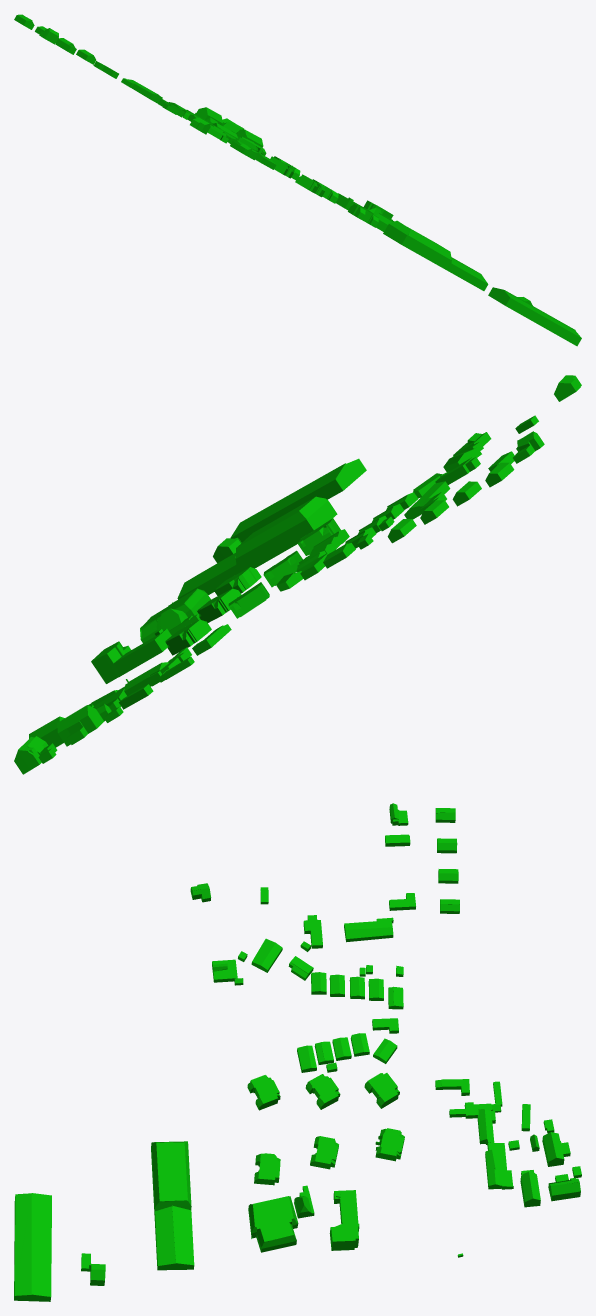
3 views of the same model, one above another, from view 1: azimuth 30°, elevation 25°; view 2: azimuth 150°, elevation 25°; view 3: azimuth 270°, elevation 25° (orthographic). The views are drawn at different scales.
Parts seen in each view (by area): view 1: mesh; view 2: mesh; view 3: mesh.
Part boxes in pixels (x1=…): mesh: x1=14, y1=14, x2=581, y2=346; mesh: x1=14, y1=375, x2=581, y2=774; mesh: x1=14, y1=803, x2=581, y2=1301.
Size of the model in its own units: 205 by 149 by 249.
